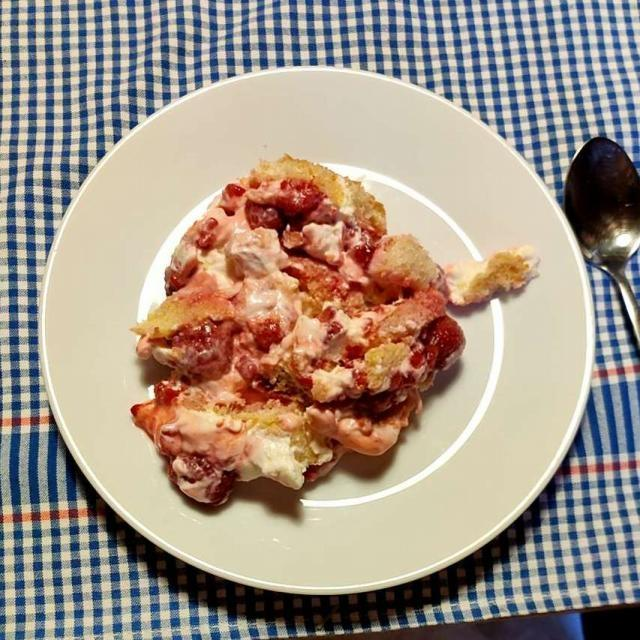curds: (201, 238, 322, 356)
